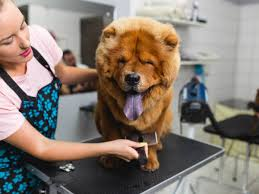dog: (89, 12, 183, 174)
